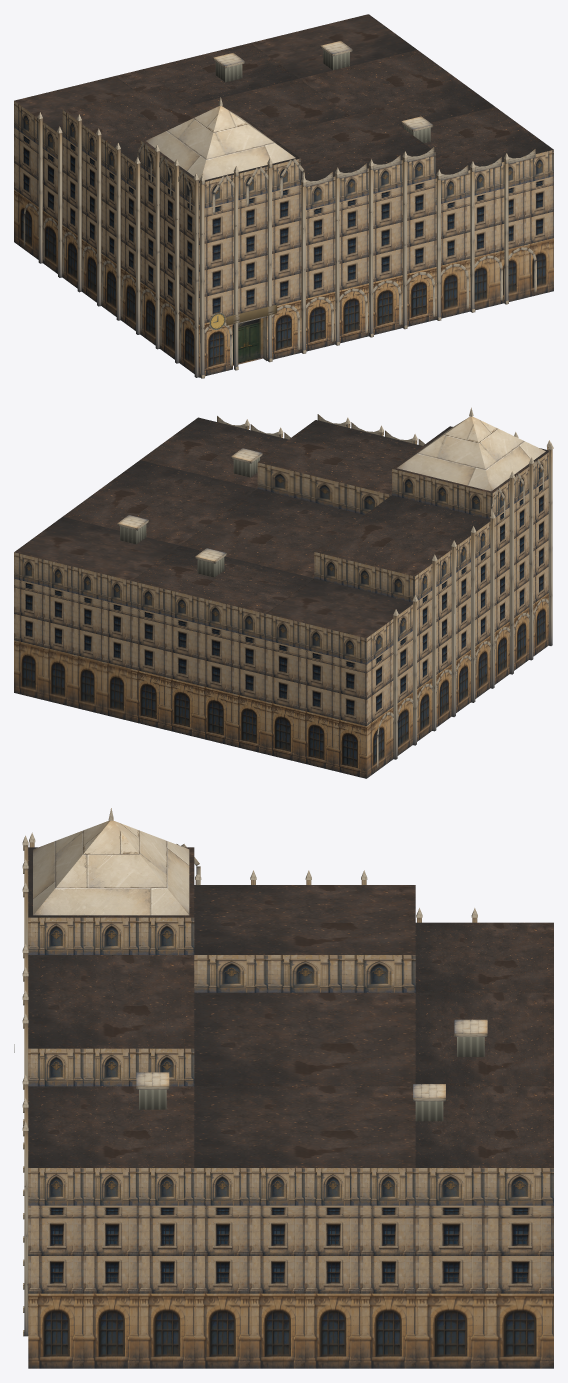
File: LM_FirstNational.fbx
3 renders of one model, top to bottom at view 1: azimuth 30°, elevation 25°; view 2: azimuth 150°, elevation 25°; view 3: azimuth 270°, elevation 25°, orthographic. The views are drawn at different scales.
Visible parts, largest first — view 1: LM_FirstNational; view 2: LM_FirstNational; view 3: LM_FirstNational.
Part boxes in pixels (bbox=[...]): LM_FirstNational: bbox=[14, 14, 553, 378]; LM_FirstNational: bbox=[14, 407, 553, 778]; LM_FirstNational: bbox=[14, 808, 553, 1368].
Size of the model in its own units: 42.42 by 39.04 by 28.
1 material, 1 textured.
